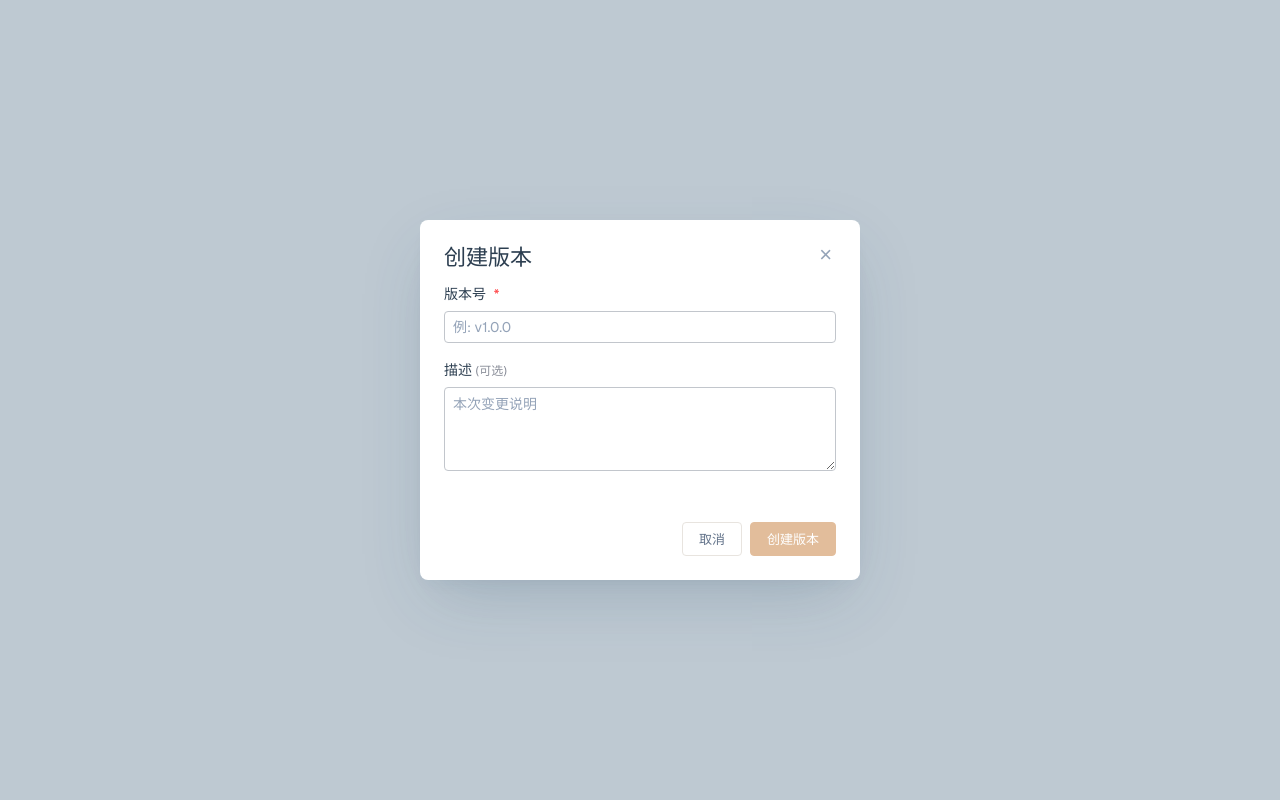
it: CreateVersionDialog › create button is enabled when name is filled
Type "v1.0" into the field with placeholder "例: v1.0.0" at (640,327), box [444,311,836,343]
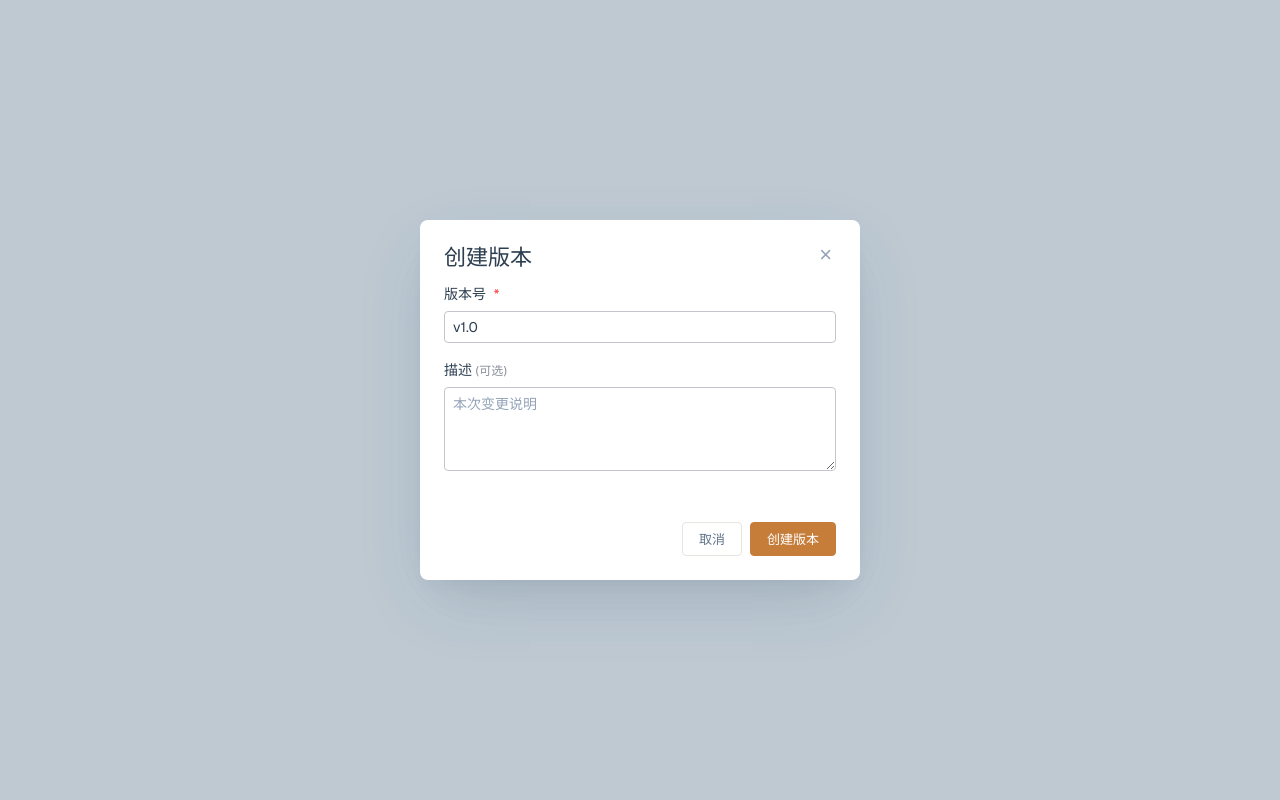
Now the button "创建版本" is enabled, box [750,522,836,556]
